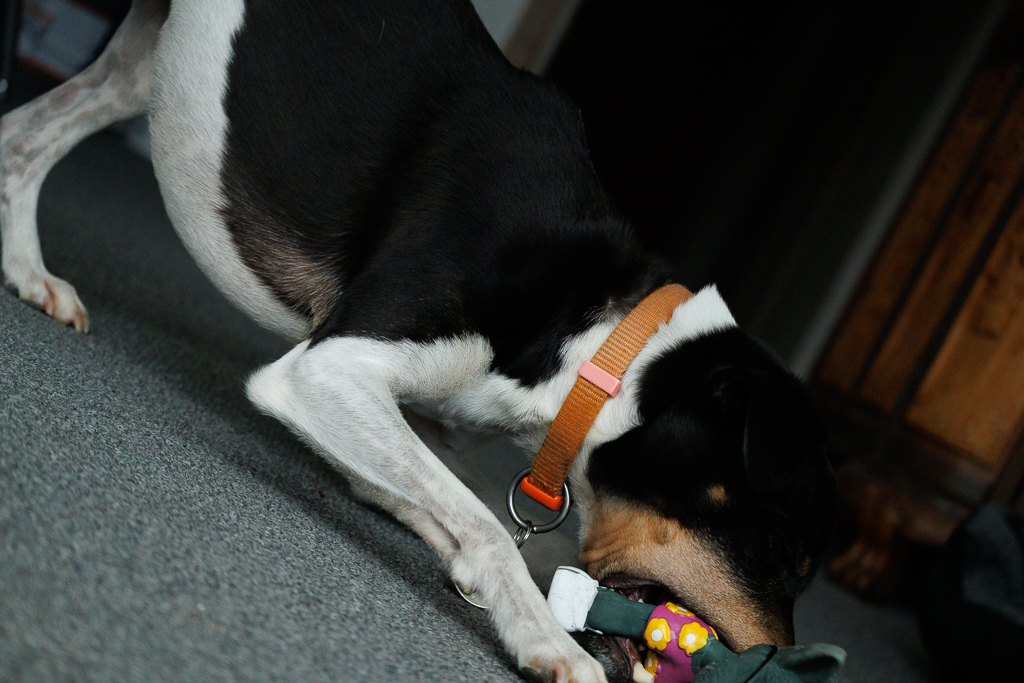Dog: (0, 0, 887, 683)
Humanoid: (538, 548, 865, 683)
